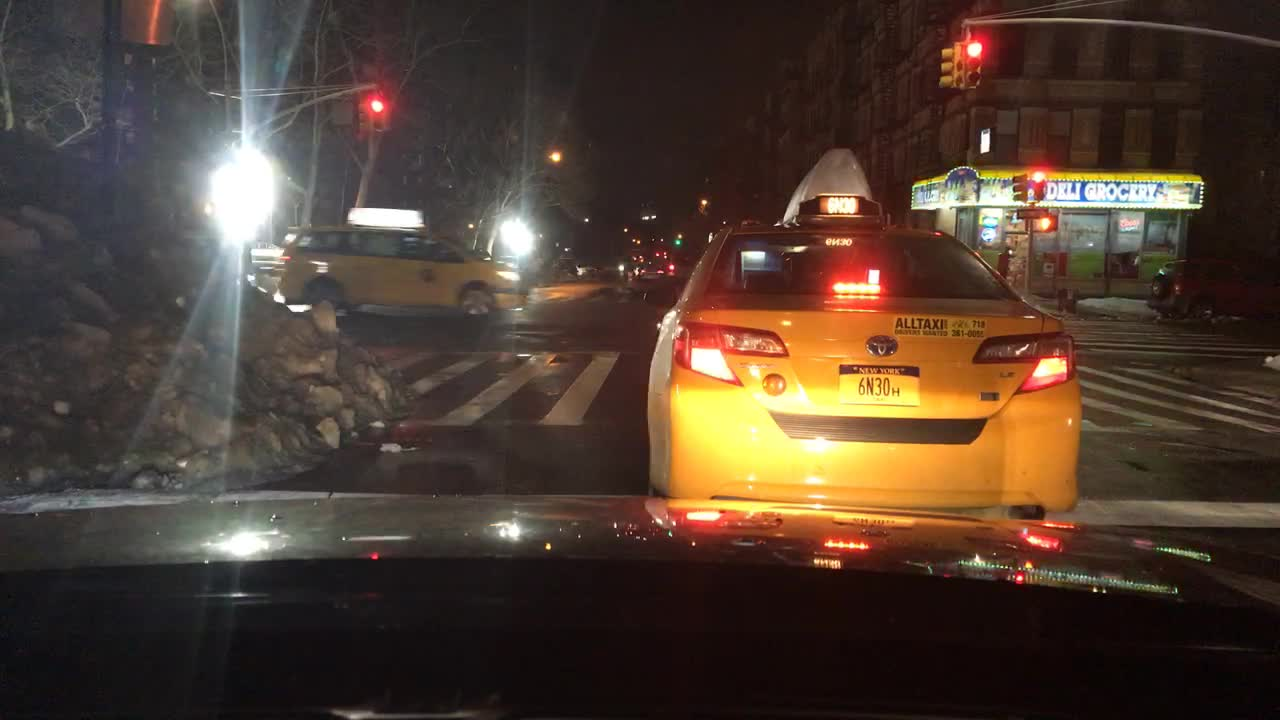car: (641, 147, 1080, 524), (275, 206, 532, 321), (1150, 260, 1277, 314), (630, 260, 678, 298), (572, 261, 606, 275), (616, 257, 636, 274)
traffic light: (962, 39, 982, 88), (939, 43, 957, 87), (369, 98, 387, 134), (1029, 170, 1047, 202), (355, 100, 370, 137), (1031, 213, 1057, 234), (1010, 174, 1028, 202)
traffic sign: (1013, 209, 1048, 220)
